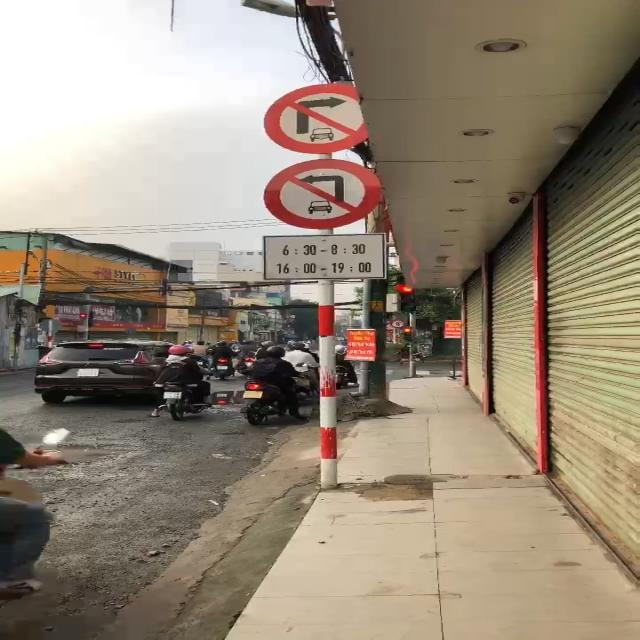Bien bao cam xe o to re phai: (262, 81, 382, 156)
Bien bao cam xe o to re trai: (258, 156, 392, 234)
